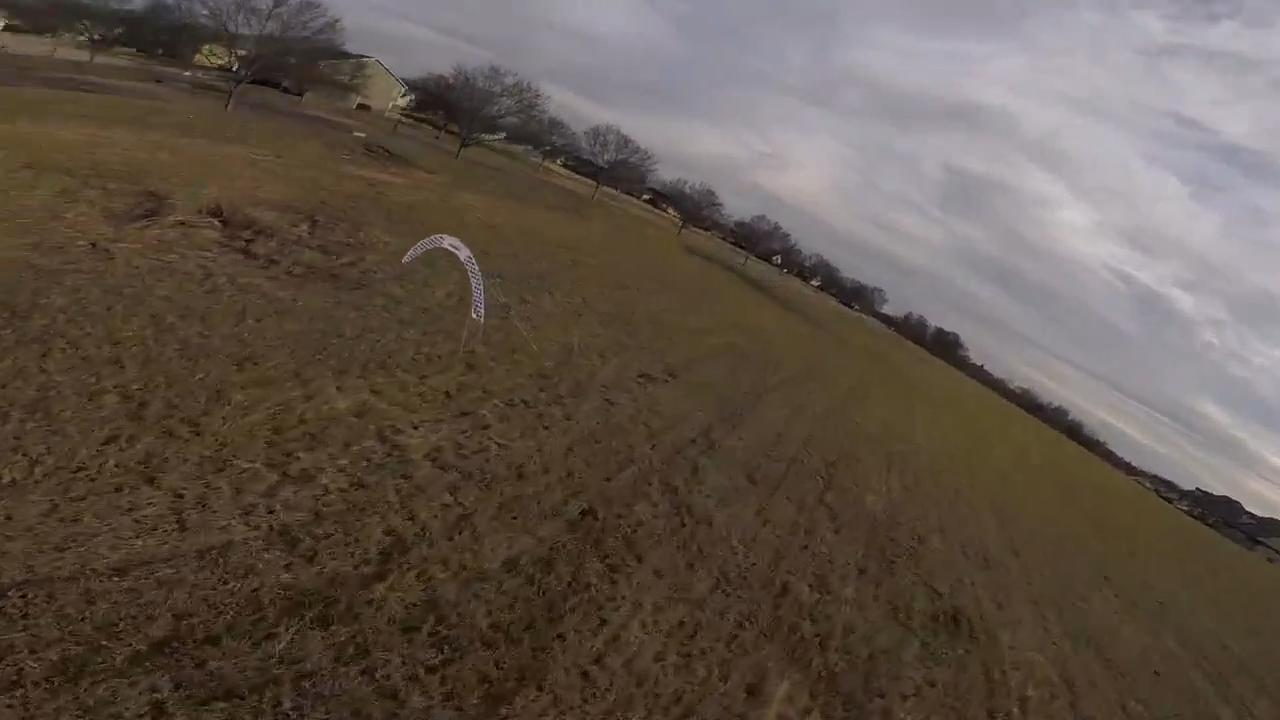gate: (401, 232, 486, 331)
